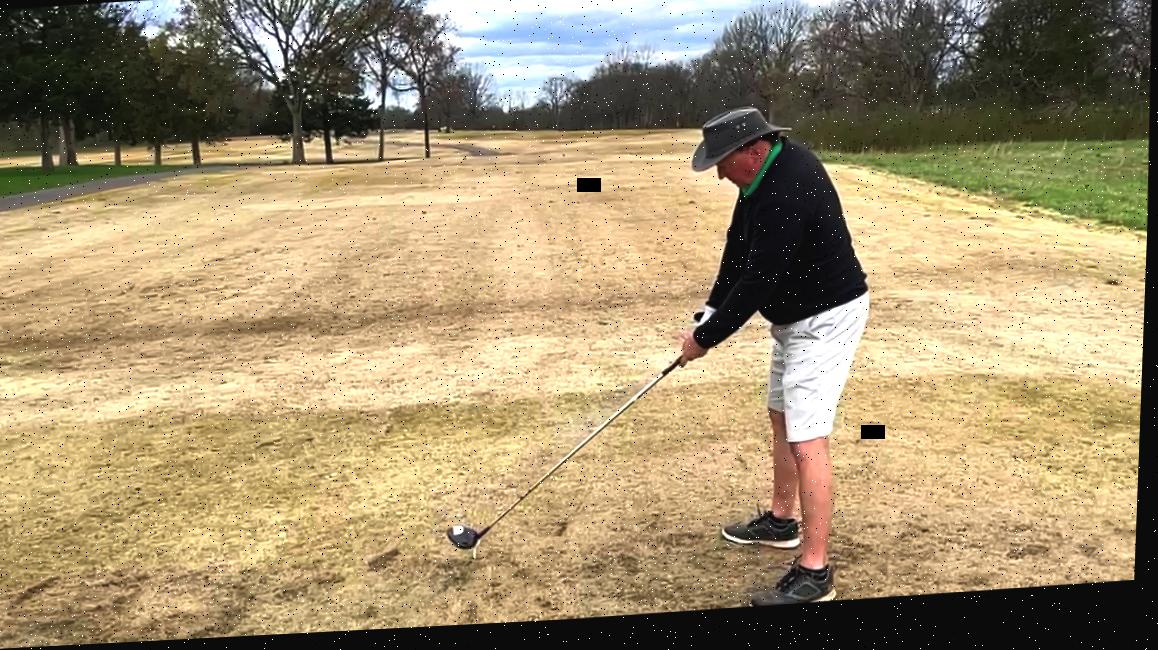ClubHead: (446, 524, 492, 561)
